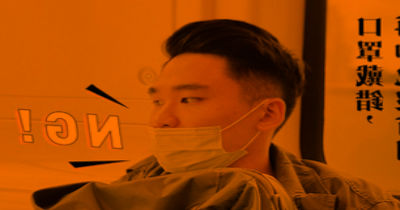mask_weared_incorrect: (146, 81, 248, 173)
